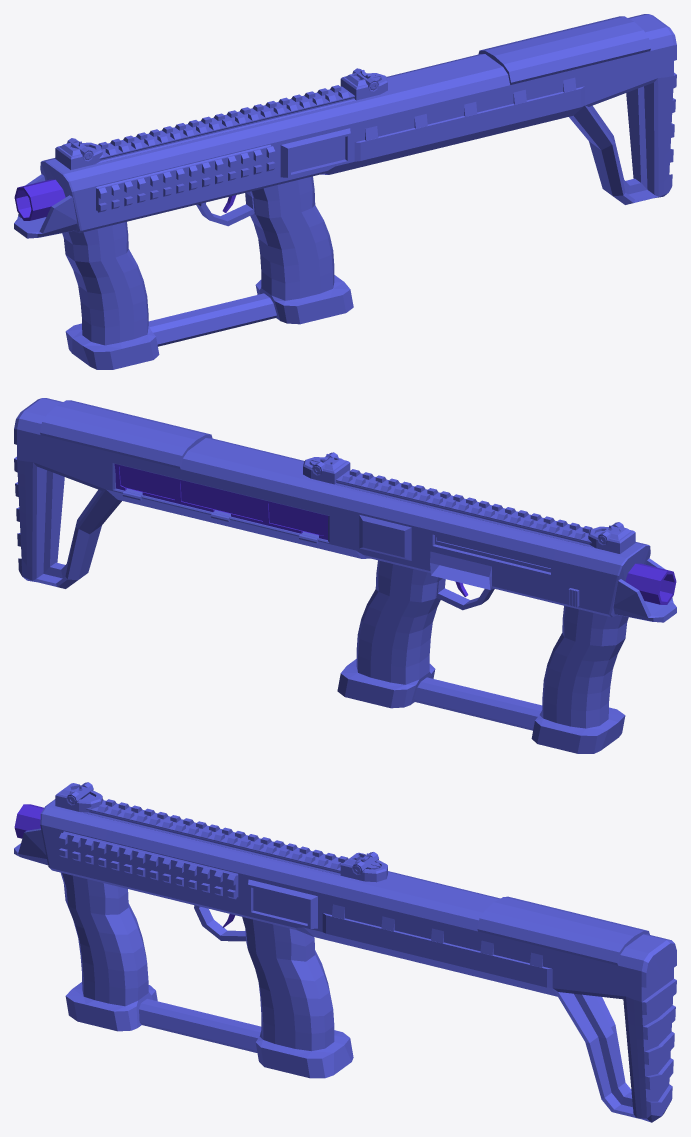
Rendered from rifle game.fbx.
3 renders of one model, top to bottom at view 1: azimuth 30°, elevation 25°; view 2: azimuth 150°, elevation 25°; view 3: azimuth 330°, elevation 25°, orthographic.
Visible parts, largest first — view 1: main, main.001, bullet role; view 2: main, main.001, magdoor, bullet role; view 3: main, main.001, bullet role.
Part boxes in pixels (x1,y1,x2,y2): main: [14, 14, 676, 238]; main.001: [62, 176, 353, 369]; bullet role: [14, 179, 65, 220]; main: [14, 398, 676, 622]; main.001: [337, 560, 628, 753]; magdoor: [114, 464, 328, 539]; bullet role: [625, 563, 676, 604]; main: [14, 782, 676, 1122]; main.001: [61, 872, 353, 1078]; bullet role: [14, 804, 43, 838].
Size of the model in its own units: 3069 by 999 by 323.
